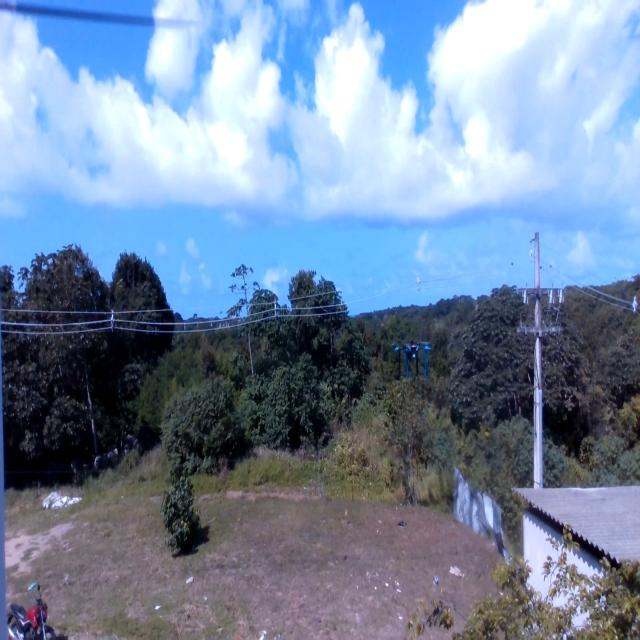-uav-: (383, 329, 446, 391)
